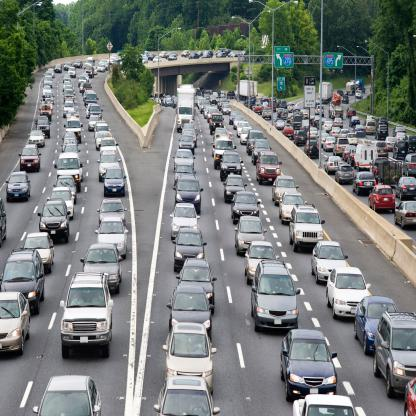car: (65, 273, 113, 361), (281, 330, 339, 399), (252, 260, 298, 330), (377, 315, 416, 396), (164, 324, 218, 379), (37, 376, 102, 416), (157, 378, 218, 416), (4, 249, 46, 299), (172, 288, 216, 332), (2, 293, 31, 358), (327, 269, 367, 309), (295, 391, 357, 416), (292, 205, 323, 255), (355, 298, 380, 356), (311, 242, 350, 279), (84, 245, 122, 279), (40, 202, 71, 242), (99, 218, 129, 256), (181, 258, 216, 288), (372, 182, 399, 216), (26, 233, 55, 264), (175, 231, 207, 258), (56, 155, 83, 186), (8, 170, 31, 203), (232, 191, 260, 218), (177, 175, 202, 205), (237, 218, 266, 243), (247, 243, 276, 267), (172, 203, 199, 228), (258, 153, 277, 187), (101, 200, 127, 224), (104, 169, 126, 196), (20, 145, 41, 173), (357, 145, 377, 173), (398, 202, 416, 233), (49, 190, 73, 213), (223, 176, 247, 197), (354, 173, 373, 199), (274, 176, 298, 195), (282, 193, 305, 212), (223, 155, 244, 173), (337, 165, 354, 186), (98, 154, 116, 172), (174, 151, 195, 166), (404, 155, 416, 181), (306, 142, 320, 162), (326, 157, 342, 174), (179, 136, 197, 150), (38, 118, 51, 137), (29, 132, 45, 147), (66, 119, 83, 133), (254, 140, 272, 153), (211, 114, 224, 132), (336, 138, 348, 157), (396, 142, 408, 161), (377, 141, 389, 159), (296, 131, 307, 147), (102, 140, 119, 150), (67, 146, 82, 157), (366, 122, 377, 137), (90, 103, 104, 114), (41, 105, 52, 118), (379, 125, 389, 139), (96, 123, 109, 133), (241, 129, 249, 145), (65, 99, 74, 112), (285, 127, 294, 140), (66, 90, 77, 100), (334, 118, 344, 129), (325, 139, 334, 151), (228, 89, 237, 101), (224, 105, 232, 118), (87, 94, 98, 103), (324, 121, 333, 132), (350, 118, 361, 127), (64, 133, 78, 140), (69, 69, 78, 79), (75, 61, 85, 70), (254, 106, 262, 117), (86, 67, 94, 77), (277, 121, 285, 131), (349, 109, 357, 119), (65, 63, 72, 74), (295, 117, 302, 128), (264, 110, 271, 120), (231, 113, 238, 123), (211, 97, 218, 107), (99, 66, 107, 74), (356, 93, 364, 101), (170, 54, 178, 62), (45, 79, 54, 86), (56, 65, 63, 74), (88, 57, 95, 66), (44, 87, 51, 95), (289, 103, 296, 111), (284, 111, 288, 124), (80, 78, 87, 85), (46, 73, 54, 79), (218, 54, 226, 60), (153, 56, 161, 62), (167, 99, 173, 107), (281, 102, 288, 108), (190, 55, 199, 59), (202, 56, 211, 60), (112, 55, 118, 61)
truck: (177, 89, 197, 126), (236, 79, 259, 102), (320, 82, 335, 105), (346, 81, 366, 94)
